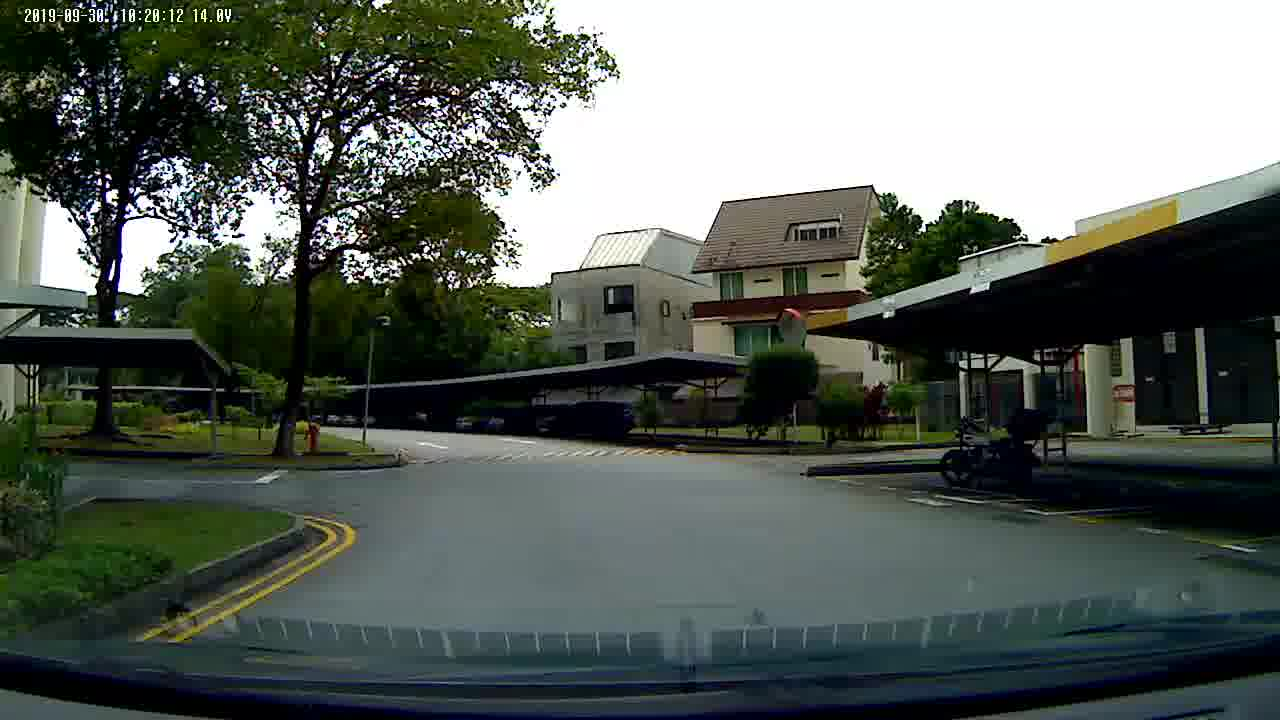car: (537, 398, 644, 447)
